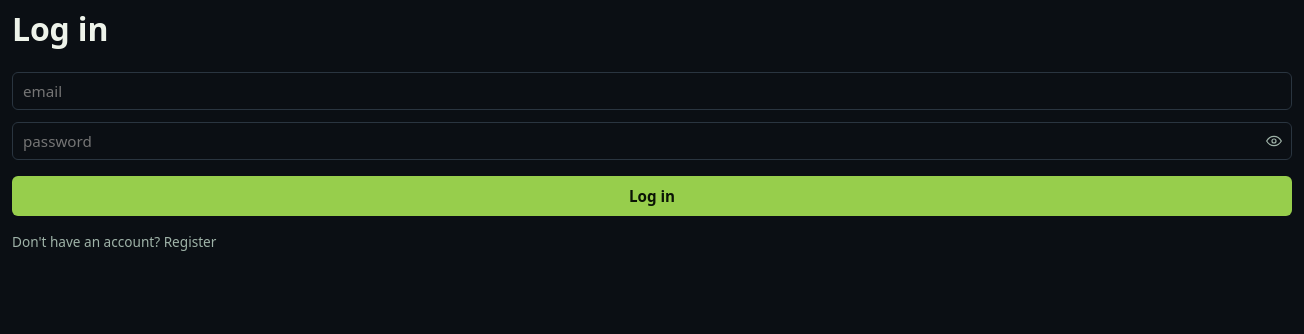
Test case: LoginForm › shows the backend error message on invalid credentials
The image size is (1304, 334).
In the field with placeholder "email": (652, 91) x1=12 y1=72 x2=1292 y2=110, type "person@example.com"
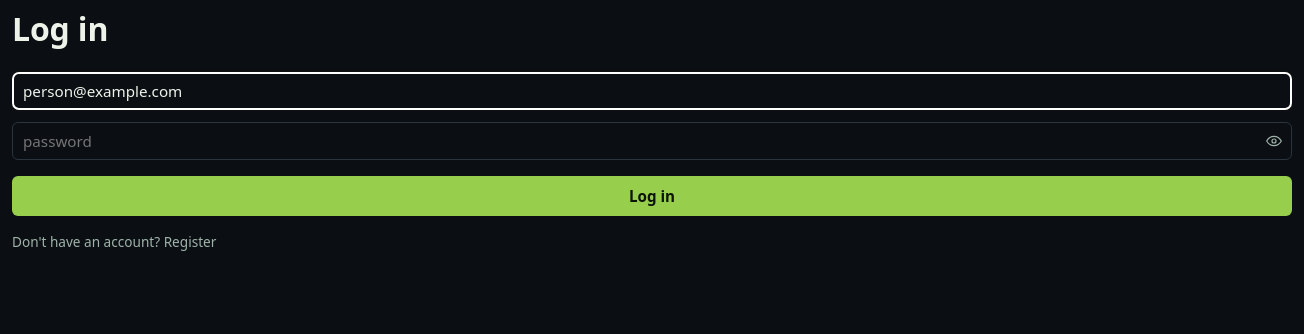
In the password field with placeholder "password": (652, 141) x1=12 y1=122 x2=1292 y2=160, type "wrong-password"
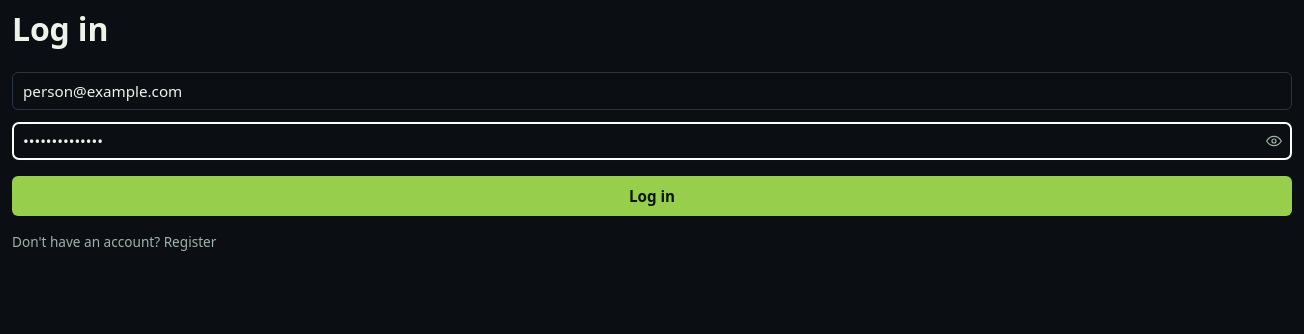
Click the button "Log in": (652, 196) x1=12 y1=176 x2=1292 y2=216
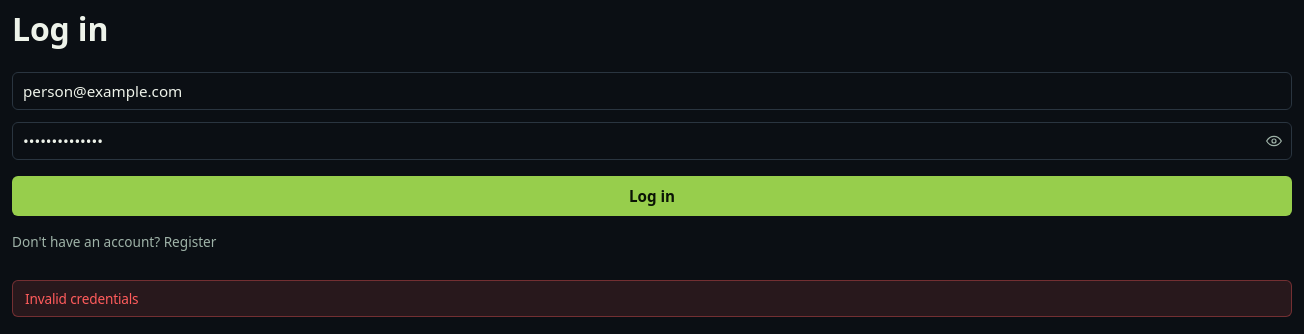
Check: the text "Invalid credentials" is shown, box x1=12 y1=280 x2=1292 y2=318
